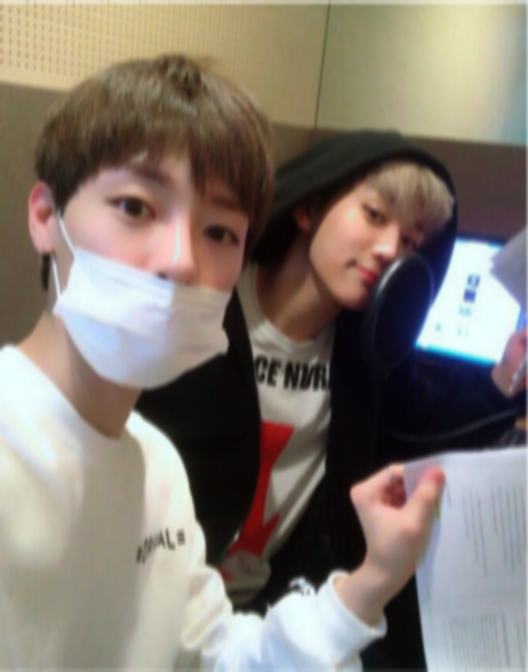mask_weared_incorrect: (27, 57, 268, 391)
